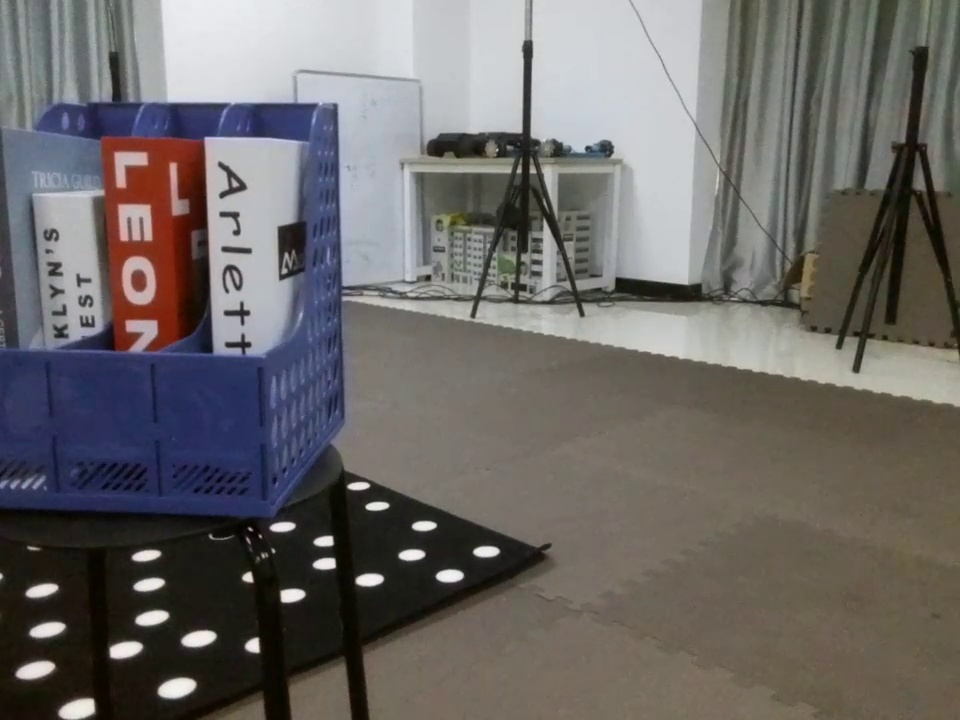files: (1, 92, 348, 526)
